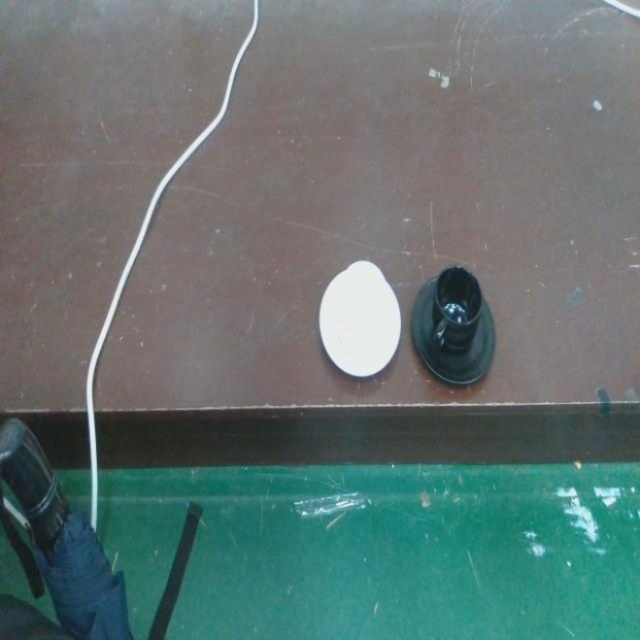black: (408, 260, 498, 391)
white: (317, 258, 403, 384)
